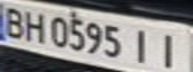0: (45, 10, 69, 48)
5: (103, 20, 130, 61), (63, 15, 87, 53)
9: (81, 18, 106, 56)
B: (0, 2, 30, 39)
H: (18, 7, 48, 43)
I: (151, 27, 190, 71), (127, 24, 157, 65)
